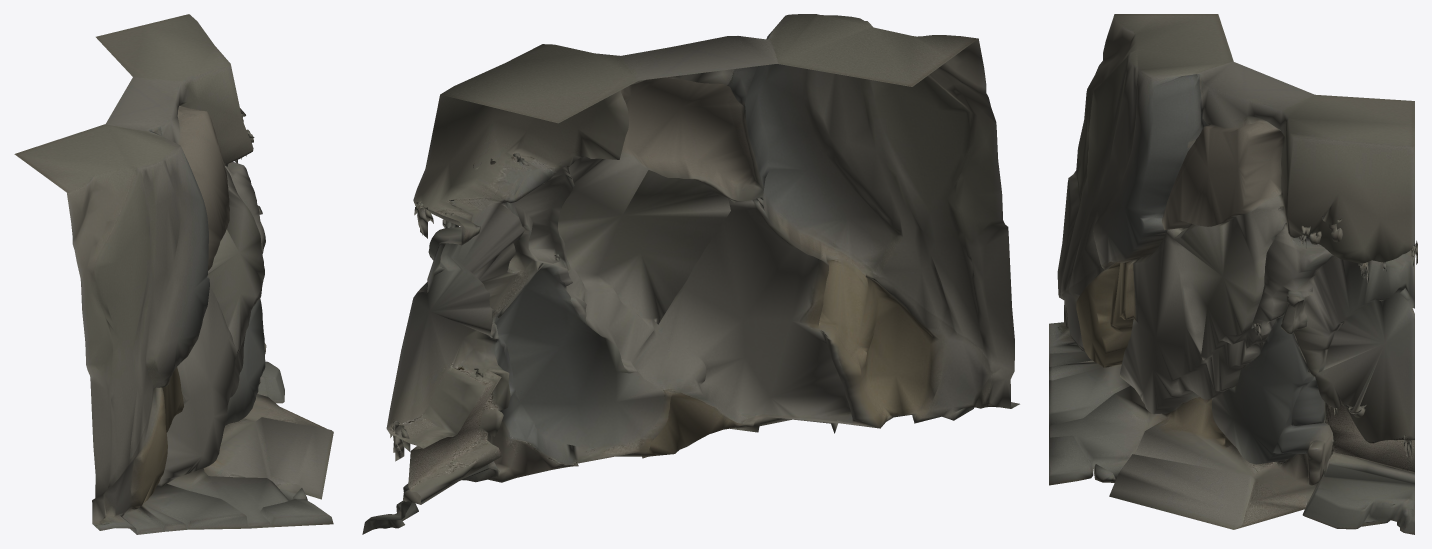
File: cave-curved-wall-color.glb
3 renders of one model, left to right at view 1: azimuth 30°, elevation 25°; view 2: azimuth 150°, elevation 25°; view 3: azimuth 270°, elevation 25°, orthographic. The views are drawn at different scales.
Visible parts, largest first — view 1: tripo_node_76dd75ba-0e85-4cfb-86db-de34c042af76; view 2: tripo_node_76dd75ba-0e85-4cfb-86db-de34c042af76; view 3: tripo_node_76dd75ba-0e85-4cfb-86db-de34c042af76.
Boxes of the visible parts, x1,y1,x2,y2 form: tripo_node_76dd75ba-0e85-4cfb-86db-de34c042af76: (14, 14, 333, 534); tripo_node_76dd75ba-0e85-4cfb-86db-de34c042af76: (362, 14, 1019, 534); tripo_node_76dd75ba-0e85-4cfb-86db-de34c042af76: (1049, 14, 1417, 534).
Size of the model in its own units: 0.959 by 0.998 by 0.9238.
1 material, 1 textured.
